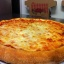pizza: (1, 18, 63, 63)
